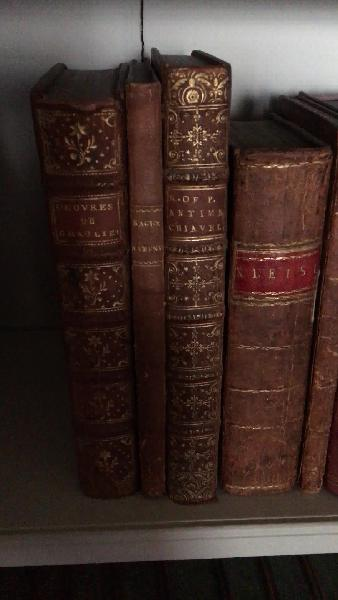Aa6-6: (23, 91, 146, 509)
Aa6-7: (115, 76, 178, 498)
Aa6-8: (159, 57, 233, 505)
Aa6-9: (222, 136, 314, 494)
